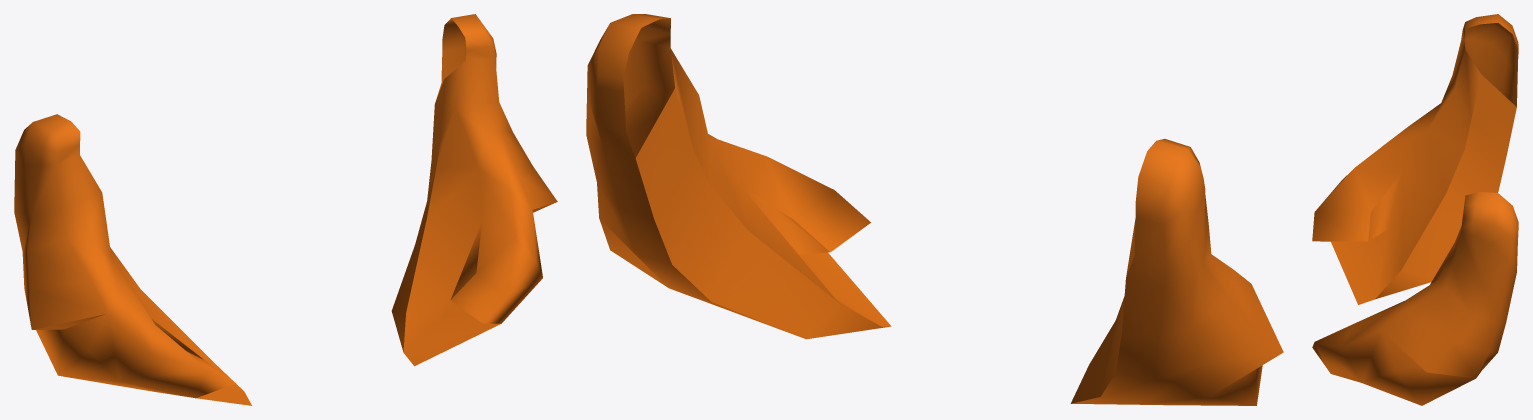
The model's file is Beard_Orange_9.fbx.
3 renders of one model, left to right at view 1: azimuth 30°, elevation 25°; view 2: azimuth 150°, elevation 25°; view 3: azimuth 270°, elevation 25°, orthographic. The views are drawn at different scales.
Visible parts, largest first — view 1: Beard_Orange_9; view 2: Beard_Orange_9; view 3: Beard_Orange_9.
Part boxes in pixels (left/top/right/bottom): Beard_Orange_9: left=14, top=14, right=557, bottom=405; Beard_Orange_9: left=586, top=14, right=1283, bottom=405; Beard_Orange_9: left=1312, top=14, right=1518, bottom=405.
Size of the model in its own units: 58.92 by 28.07 by 22.62.
